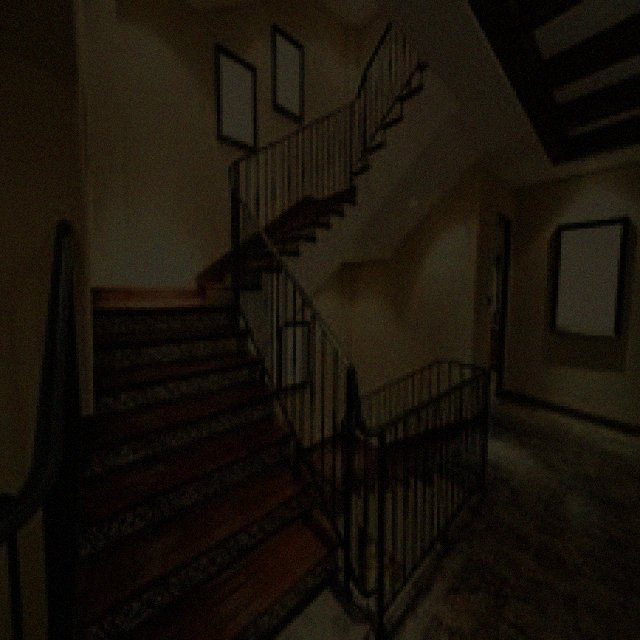stair: (72, 23, 488, 639)
